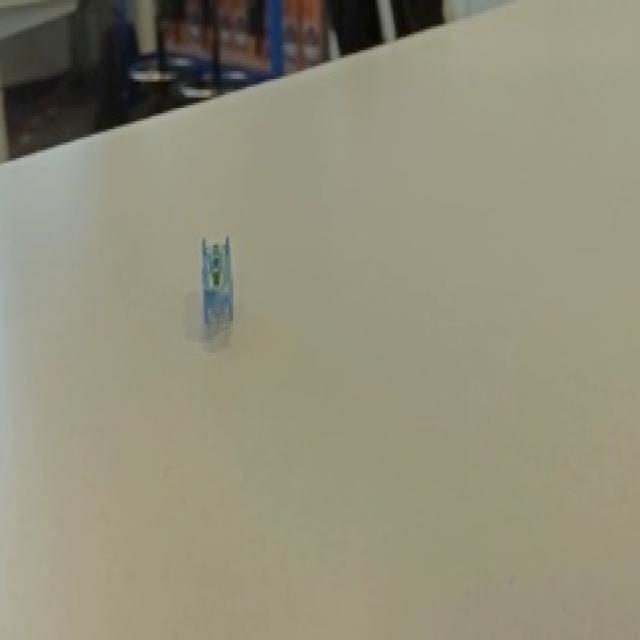3_NanoBug_Celeste: (173, 218, 259, 358)
